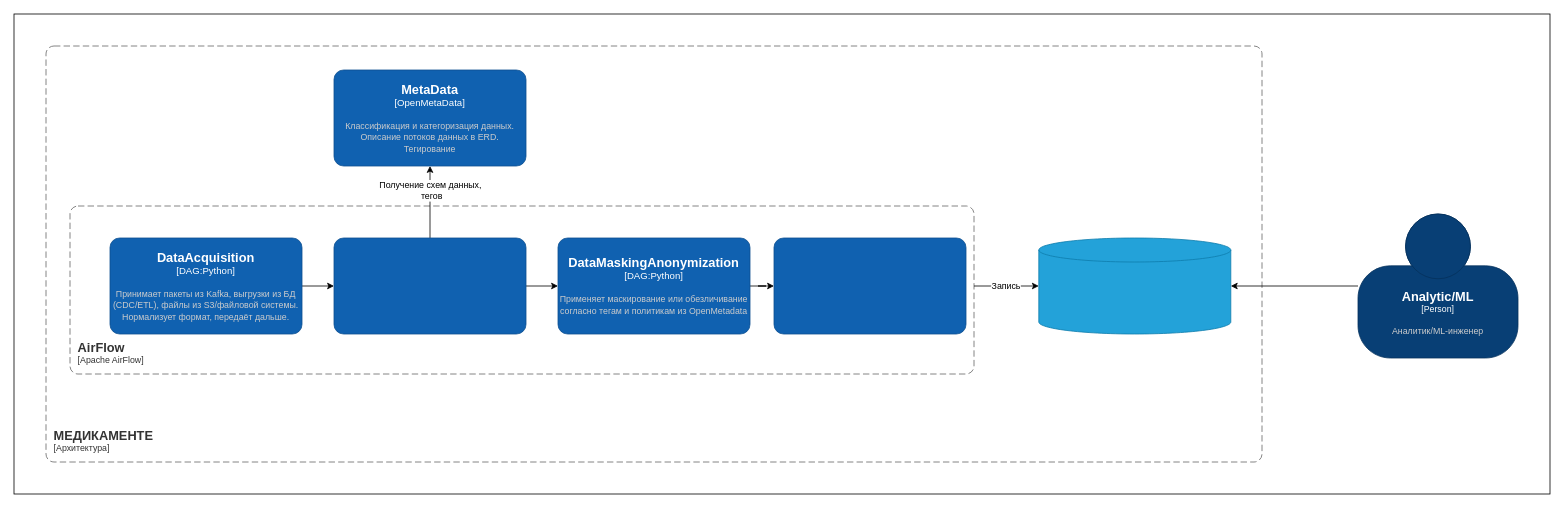
The diagram is 1564 pixels wide and 508 high, and some of its shapes have lost their labels. Each missing label, with the centre of its shape:
"AnalyticsDB [Container: ClickHouse] Данные для аналитики" goes at point (1134, 285).
"DataСomparison [DAG:Python] Сопоставляет входящие поля с описанными в каталоге" goes at point (429, 285).
"Loader [DAG:Python] Загрузка в целевые слои хранилища." goes at point (869, 285).
